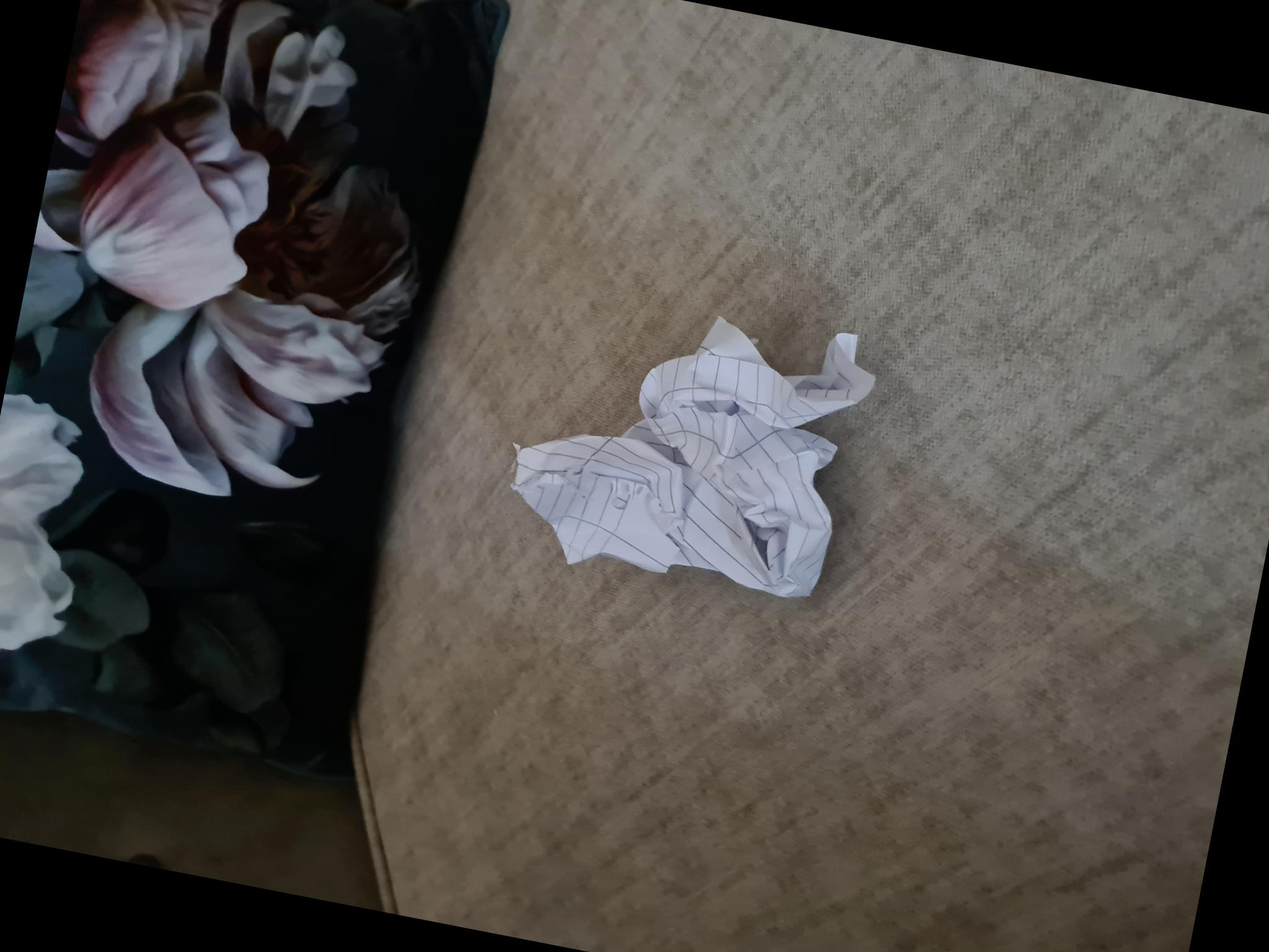Kertas: (312, 479, 633, 838)
